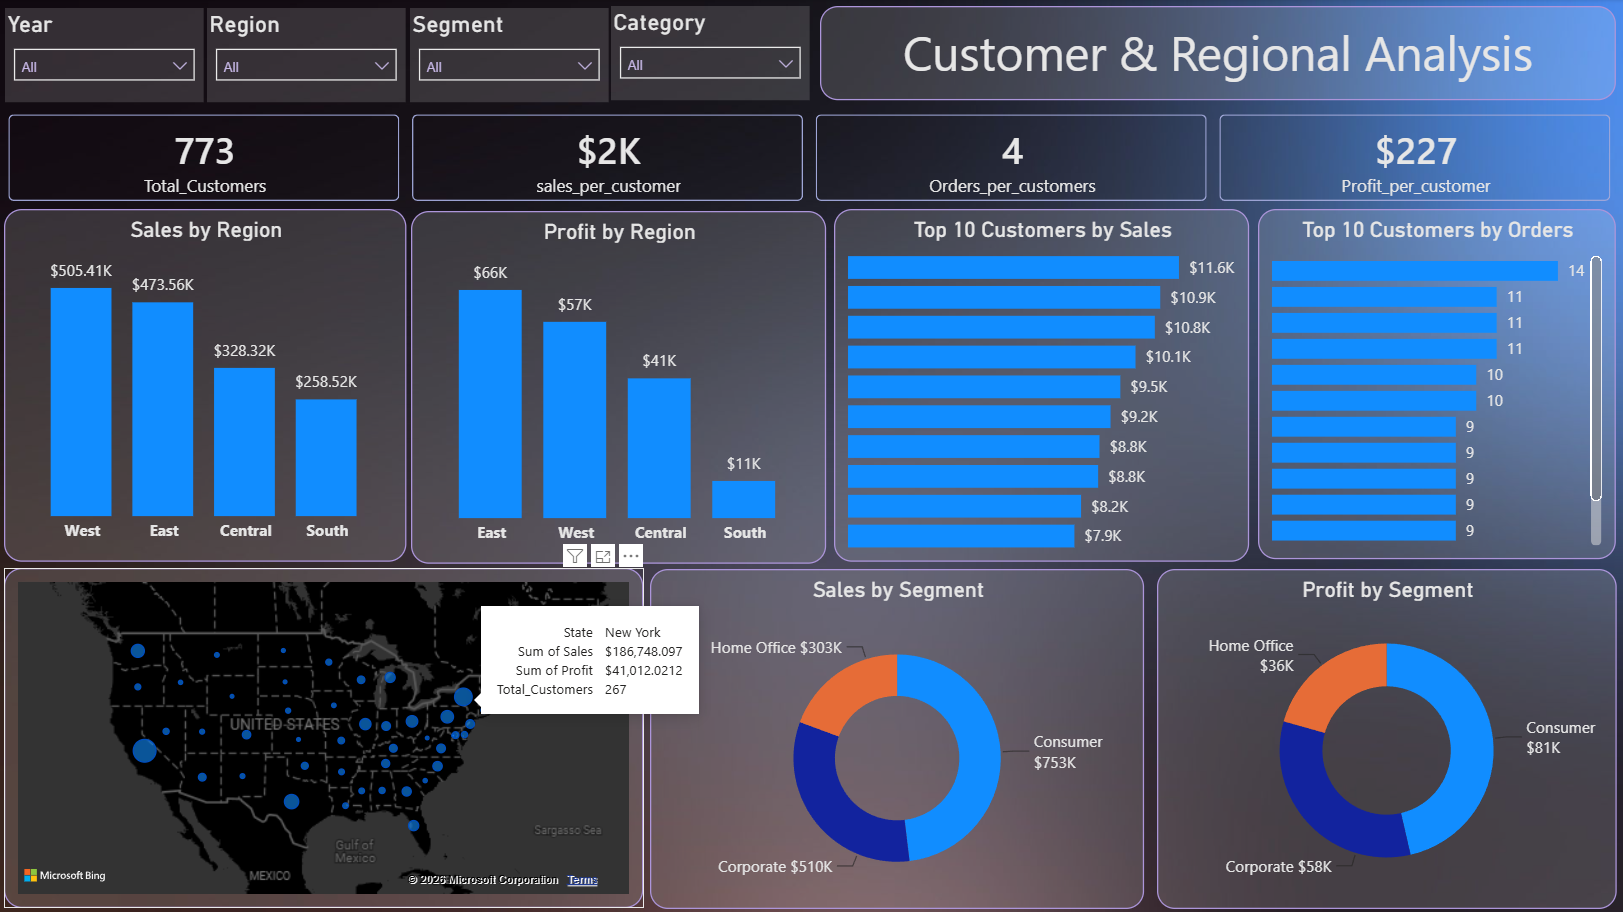

The page's visual inventory and layout, read from the dashboard file:
{"tool":"powerbi","page":{"name":"Customer & Regional Analysis","canvas":[1280,720],"ordinal":5},"visuals":[{"type":"slicer","title":"Year","fields":{"Values":["DimDate.Order Year"]},"box":[5.5,6.9,155.5,74.3],"z":0},{"type":"cardVisual","fields":{"Data":["Measurements.Total_Customers","Measurements.sales_per_customer","Measurements.Orders_per_customers","Measurements.Profit_per_customer"]},"box":[2.8,85.3,1270.4,78.5],"z":1000},{"type":"textbox","box":[645.5,5.5,624.9,74.3],"z":2000},{"type":"slicer","title":"Segment","fields":{"Values":["DimCustomer.Segment"]},"box":[323.4,6.9,155.5,74.3],"z":3000},{"type":"slicer","title":"Region","fields":{"Values":["FactSales.Region"]},"box":[163.8,6.9,155.5,74.3],"z":4000},{"type":"donutChart","title":"Profit by Segment","fields":{"Category":["DimCustomer.Segment"],"Y":["Measurements.Total_Profit"]},"box":[909.8,447.3,360.6,267],"z":5000},{"type":"slicer","title":"Category","fields":{"Values":["DimProduct.Category"]},"box":[481.7,5.5,155.5,74.3],"z":6000},{"type":"donutChart","title":"Sales by Segment","fields":{"Category":["DimCustomer.Segment"],"Y":["Measurements.Total_Revenue"]},"box":[512,447.3,388.1,267],"z":7000},{"type":"clusteredBarChart","title":"Top 10 Customers by Orders","fields":{"Y":["Measurements.Total_Orders"],"Category":["DimCustomer.Customer ID"]},"box":[989.4,164.6,280.5,275.5],"z":8000},{"type":"clusteredBarChart","title":"Top 10 Customers by Sales","fields":{"Y":["Sum(FactSales.Sales)"],"Category":["DimCustomer.Customer ID"]},"box":[656.8,164.6,325.9,277.2],"z":9000},{"type":"clusteredColumnChart","title":"Profit by Region","fields":{"Category":["DimCustomer.Region"],"Y":["Measurements.Total_Profit"]},"box":[324.2,166.3,325.9,277.2],"z":10000},{"type":"clusteredColumnChart","title":"Sales by Region","fields":{"Category":["DimCustomer.Region"],"Y":["Sum(FactSales.Sales)"]},"box":[5,164.6,315.8,277.2],"z":11000},{"type":"map","fields":{"Category":["SuperStore_Sales_Dataset.State"],"Size":["Sum(SuperStore_Sales_Dataset.Sales)"]},"box":[5,446.8,502.3,267.1],"z":12000}]}

Visuals, with their boxes in screenshot pixels (x1, y1, x2, y2), scaled from the page's 1280x720 canvas onto the 1623x912 screenshot:
"Year" slicer: l=7, t=9, r=204, b=103
cardVisual - Measurements.Total_Customers x Measurements.sales_per_customer: l=4, t=108, r=1614, b=207
textbox: l=818, t=7, r=1611, b=101
"Segment" slicer: l=410, t=9, r=607, b=103
"Region" slicer: l=208, t=9, r=405, b=103
"Profit by Segment" donutChart: l=1154, t=567, r=1611, b=905
"Category" slicer: l=611, t=7, r=808, b=101
"Sales by Segment" donutChart: l=649, t=567, r=1141, b=905
"Top 10 Customers by Orders" clusteredBarChart: l=1255, t=208, r=1610, b=557
"Top 10 Customers by Sales" clusteredBarChart: l=833, t=208, r=1246, b=560
"Profit by Region" clusteredColumnChart: l=411, t=211, r=824, b=562
"Sales by Region" clusteredColumnChart: l=6, t=208, r=407, b=560
map - SuperStore_Sales_Dataset.State x Sum(SuperStore_Sales_Dataset.Sales): l=6, t=566, r=643, b=904
